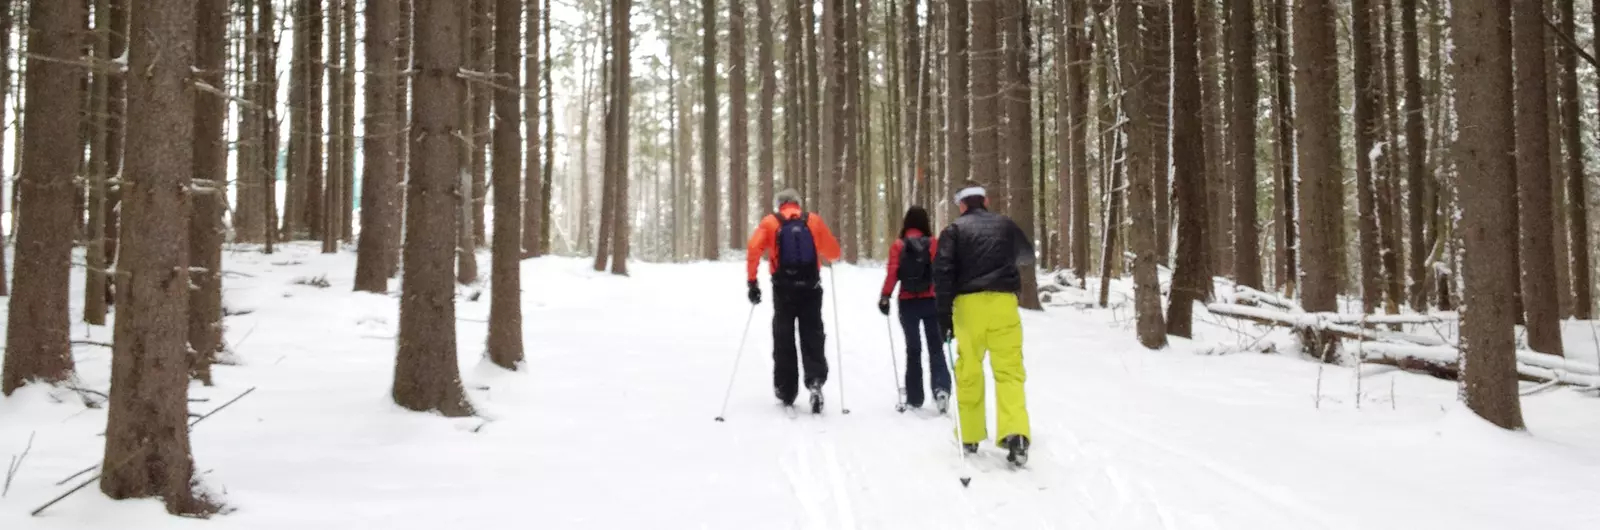skier: (927, 180, 1063, 505), (726, 162, 853, 442), (877, 184, 969, 431)
